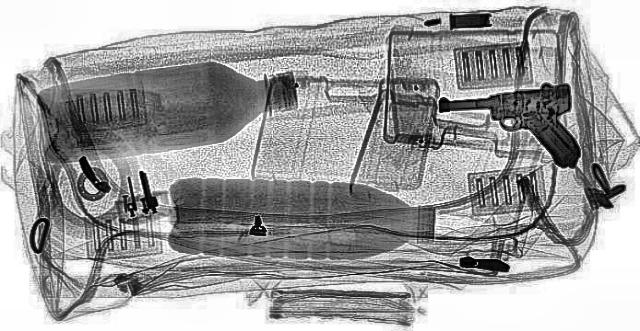Gun: (429, 80, 601, 176)
